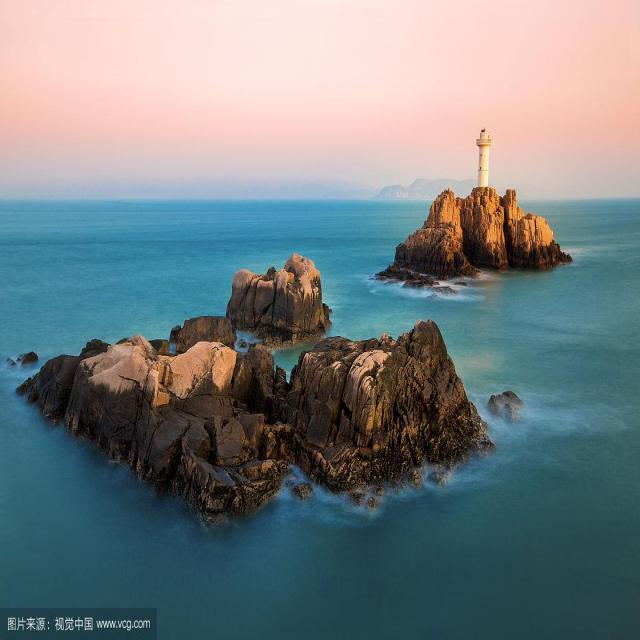island: (378, 117, 572, 296)
